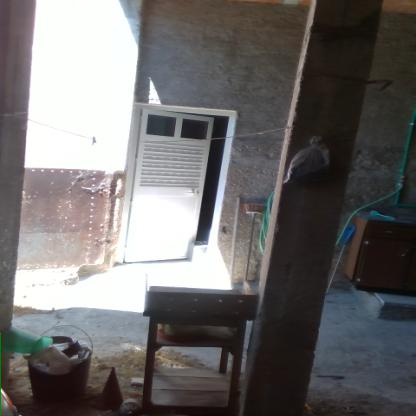semi: (114, 92, 242, 274)
